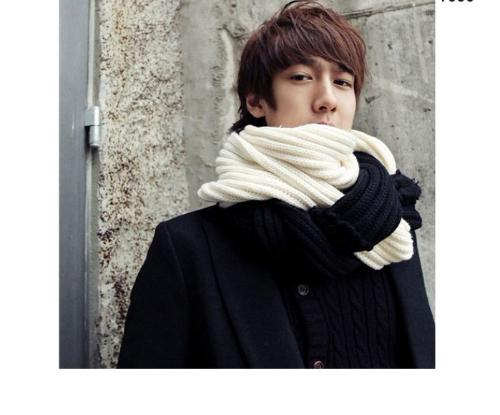face: (265, 41, 358, 149)
